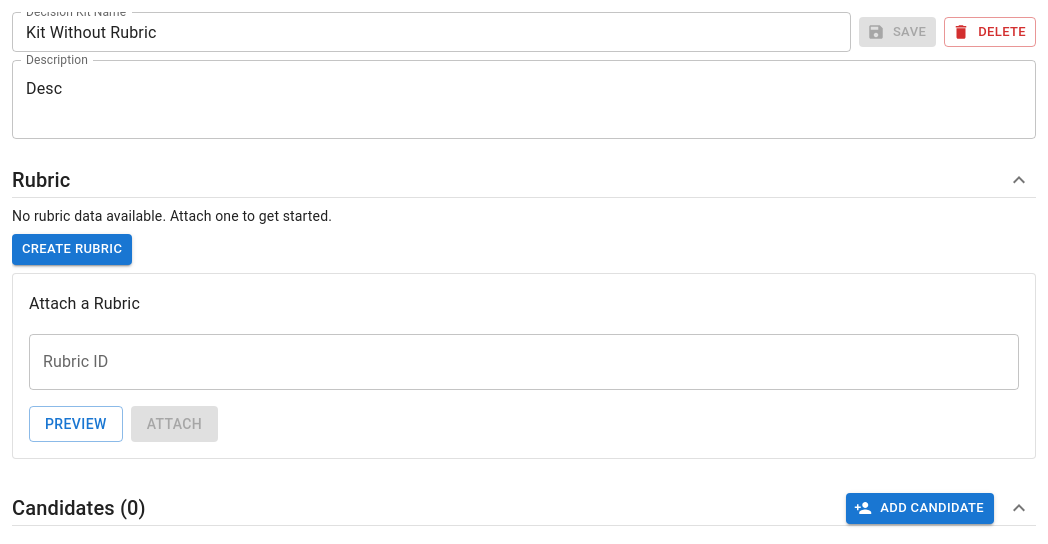
Scenario: DecisionKitDetailPage attach rubric flow › attaches a rubric inline on the detail page when no rubric is present
Expected: the text "No rubric data available. Attach one to get started." is shown, [12,208,332,224]
Type "rubric-xyz" into the field labelled "Rubric ID". click: (524, 362)
box: [29,334,1019,390]
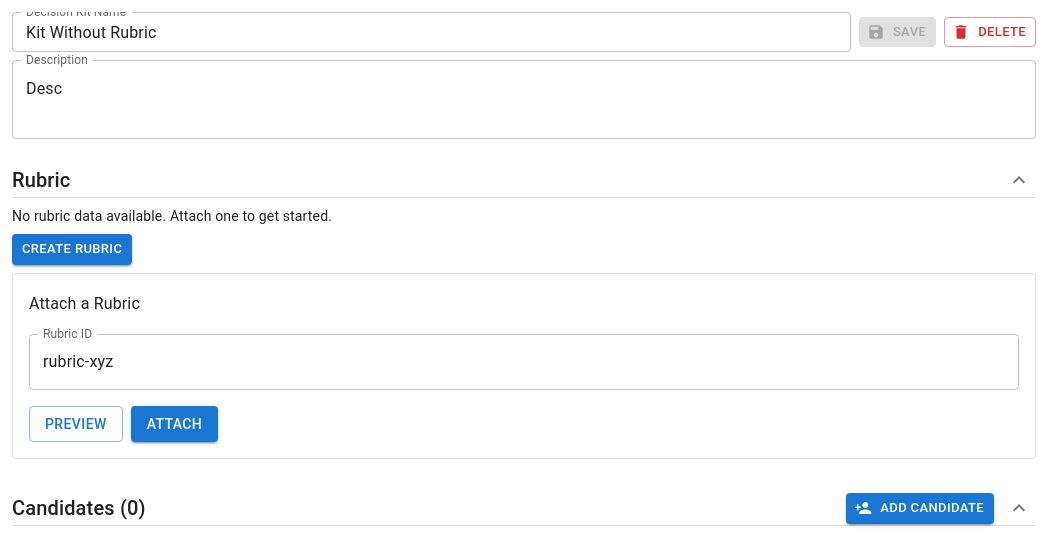
Click the button "Attach". click: (174, 424)
box: [131,406,218,442]
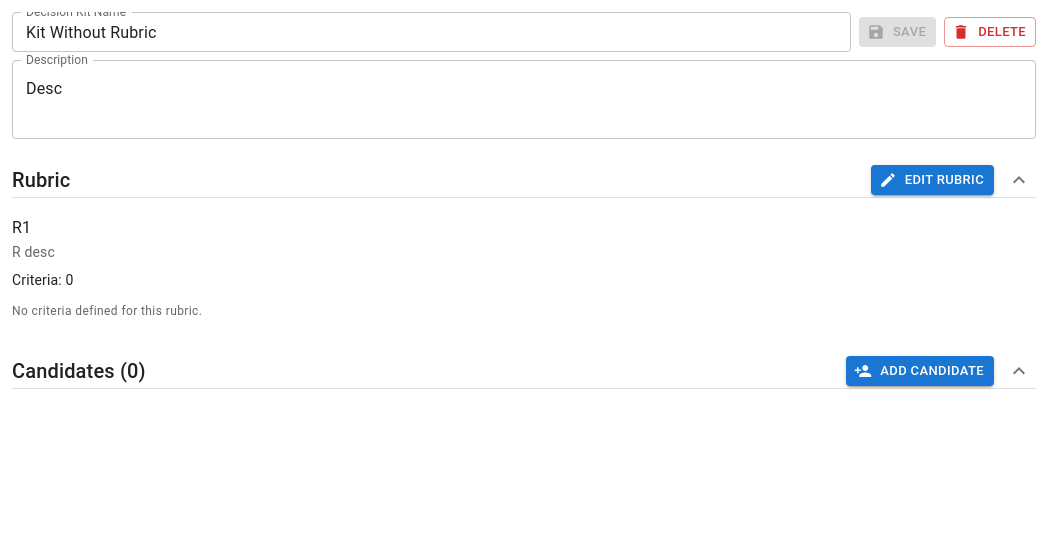
Result: the heading "R1" is shown at [12,218,31,237]
Result: the text "Criteria: 0" is shown at [12,272,73,288]
